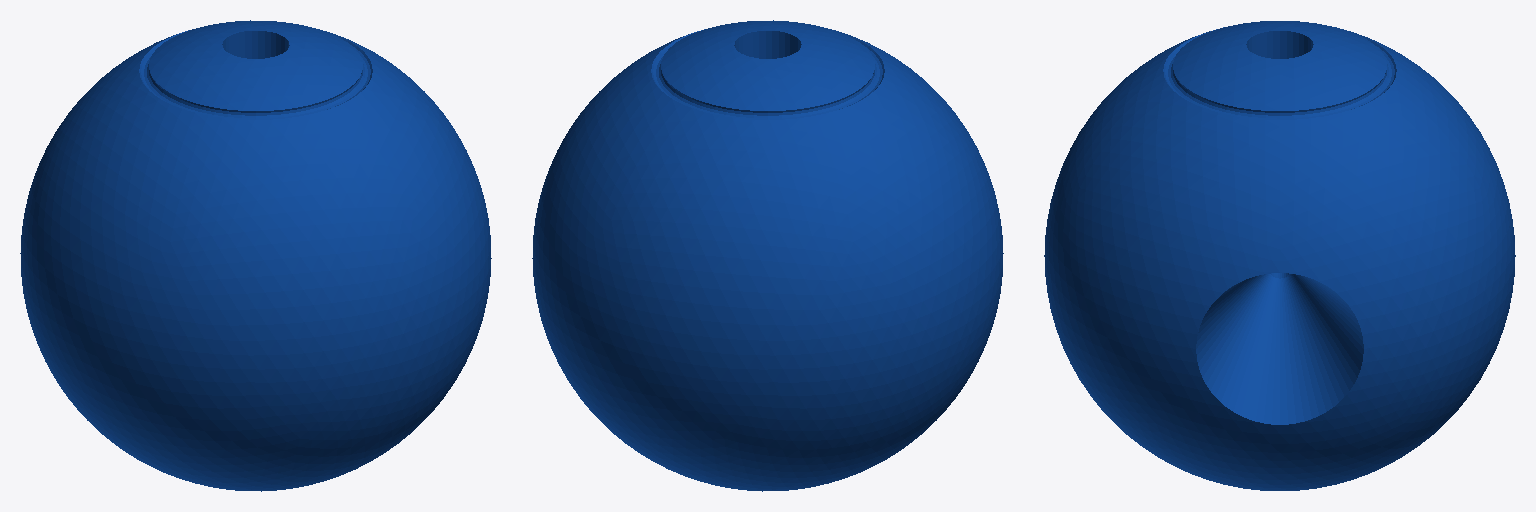
The robot description file, URDF, robot "spacecraft":
<?xml version="1.0" ?>
<robot name="spacecraft">
  <material name="industrial-blue">
    <color rgba="0.11372549019607843 0.34509803921568627 0.6549019607843137 1.0"/>
  </material>
  <material name="arches-blue">
    <color rgba="0.0 0.6235294117647059 0.8313725490196079 1.0"/>
  </material>
  <material name="heritage-orange">
    <color rgba="0.96078431 0.50980392 0.11764706 1.0"/>
  </material>
  <link name="bus" concave="yes">
    <visual>
      <geometry>
        <mesh filename="spacecraft.stl" scale="1.0 1.0 1.0"/>
      </geometry>
      <material name="industrial-blue"/>
    </visual>
    <collision concave="yes">
      <geometry>
        <mesh filename="spacecraft.stl" scale="1.0 1.0 1.0"/>
      </geometry>
    </collision>
    <inertial>
      <origin rpy="0.0 0.0 0.0" xyz="0.0 0.0 0.0"/>
      <mass value="5.0"/>
      <inertia ixx="8.82000000" ixy="0.00000000" ixz="0.00000000" iyy="8.82000000" iyz="0.00000000" izz="8.82000000"/>
    </inertial>
  </link>
  <link name="wheel_1" concave="yes">
    <visual>
      <geometry>
        <mesh filename="rw1.stl" scale="0.5 0.5 0.2"/>
      </geometry>
      <material name="heritage-orange"/>
    </visual>
    <collision concave="yes">
      <geometry>
        <mesh filename="rw1.stl" scale="0.5 0.5 0.2"/>
      </geometry>
    </collision>
    <inertial>
      <origin rpy="0.0 0.0 0.0" xyz="0.0 0.0 0.0"/>
      <mass value="1.0"/>
      <inertia ixx="0.06583333" ixy="0.00000000" ixz="0.00000000" iyy="0.06583333" iyz="0.00000000" izz="0.12500000"/>
    </inertial>
  </link>
  <link name="wheel_2" concave="yes">
    <visual>
      <geometry>
        <mesh filename="rw2.stl" scale="0.5 0.5 0.2"/>
      </geometry>
      <material name="heritage-orange"/>
    </visual>
    <collision concave="yes">
      <geometry>
        <mesh filename="rw2.stl" scale="0.5 0.5 0.2"/>
      </geometry>
    </collision>
    <inertial>
      <origin rpy="0.0 0.0 0.0" xyz="0.0 0.0 0.0"/>
      <mass value="1.0"/>
      <inertia ixx="0.06583333" ixy="0.00000000" ixz="0.00000000" iyy="0.06583333" iyz="0.00000000" izz="0.12500000"/>
    </inertial>
  </link>
  <link name="wheel_3" concave="yes">
    <visual>
      <geometry>
        <mesh filename="rw3.stl" scale="0.5 0.5 0.2"/>
      </geometry>
      <material name="heritage-orange"/>
    </visual>
    <collision concave="yes">
      <geometry>
        <mesh filename="rw3.stl" scale="0.5 0.5 0.2"/>
      </geometry>
    </collision>
    <inertial>
      <origin rpy="0.0 0.0 0.0" xyz="0.0 0.0 0.0"/>
      <mass value="1.0"/>
      <inertia ixx="0.06583333" ixy="0.00000000" ixz="0.00000000" iyy="0.06583333" iyz="0.00000000" izz="0.12500000"/>
    </inertial>
  </link>
  <link name="wheel_4" concave="yes">
    <visual>
      <geometry>
        <mesh filename="rw4.stl" scale="0.5 0.5 0.2"/>
      </geometry>
      <material name="heritage-orange"/>
    </visual>
    <collision concave="yes">
      <geometry>
        <mesh filename="rw4.stl" scale="0.5 0.5 0.2"/>
      </geometry>
    </collision>
    <inertial>
      <origin rpy="0.0 0.0 0.0" xyz="0.0 0.0 0.0"/>
      <mass value="1.0"/>
      <inertia ixx="0.06583333" ixy="0.00000000" ixz="0.00000000" iyy="0.06583333" iyz="0.00000000" izz="0.12500000"/>
    </inertial>
  </link>
  <link name="mass_1">
    <inertial>
      <origin rpy="0.0 0.0 0.0" xyz="0.0 0.0 0.0"/>
      <mass value="4.0"/>
      <inertia ixx="0" ixy="0" ixz="0" iyy="0" iyz="0" izz="0"/>
    </inertial>
  </link>
  <link name="mass_2">
    <inertial>
      <origin rpy="0.0 0.0 0.0" xyz="0.0 0.0 0.0"/>
      <mass value="1.0"/>
      <inertia ixx="0" ixy="0" ixz="0" iyy="0" iyz="0" izz="0"/>
    </inertial>
  </link>
  <link name="mass_3">
    <inertial>
      <origin rpy="0.0 0.0 0.0" xyz="0.0 0.0 0.0"/>
      <mass value="1.0"/>
      <inertia ixx="0" ixy="0" ixz="0" iyy="0" iyz="0" izz="0"/>
    </inertial>
  </link>
  <link name="mass_4">
    <inertial>
      <origin rpy="0.0 0.0 0.0" xyz="0.0 0.0 0.0"/>
      <mass value="1.0"/>
      <inertia ixx="0" ixy="0" ixz="0" iyy="0" iyz="0" izz="0"/>
    </inertial>
  </link>
  <link name="mass_5">
    <inertial>
      <origin rpy="0.0 0.0 0.0" xyz="0.0 0.0 0.0"/>
      <mass value="1.0"/>
      <inertia ixx="0" ixy="0" ixz="0" iyy="0" iyz="0" izz="0"/>
    </inertial>
  </link>
  <link name="mass_6">
    <inertial>
      <origin rpy="0.0 0.0 0.0" xyz="0.0 0.0 0.0"/>
      <mass value="1.0"/>
      <inertia ixx="0" ixy="0" ixz="0" iyy="0" iyz="0" izz="0"/>
    </inertial>
  </link>
  <link name="mass_7">
    <inertial>
      <origin rpy="0.0 0.0 0.0" xyz="0.0 0.0 0.0"/>
      <mass value="1.0"/>
      <inertia ixx="0" ixy="0" ixz="0" iyy="0" iyz="0" izz="0"/>
    </inertial>
  </link>
  <joint name="bus_to_wheel_1" type="continuous">
    <parent link="bus"/>
    <child link="wheel_1"/>
    <origin xyz="1.55563492 1.55563492 0.00000000" rpy="1.57079633 0.00000000 2.35619449"/>
    <axis xyz="0.00000000 0.00000000 1.00000000"/>
    <limit effort="1000.0" velocity="1000.0"/>
  </joint>
  <joint name="bus_to_wheel_2" type="continuous">
    <parent link="bus"/>
    <child link="wheel_2"/>
    <origin xyz="-1.55563492 1.55563492 0.00000000" rpy="1.57079633 0.00000000 3.92699082"/>
    <axis xyz="0.00000000 0.00000000 1.00000000"/>
    <limit effort="1000.0" velocity="1000.0"/>
  </joint>
  <joint name="bus_to_wheel_3" type="continuous">
    <parent link="bus"/>
    <child link="wheel_3"/>
    <origin xyz="-1.55563492 -1.55563492 0.00000000" rpy="1.57079633 0.00000000 5.49778714"/>
    <axis xyz="0.00000000 0.00000000 1.00000000"/>
    <limit effort="1000.0" velocity="1000.0"/>
  </joint>
  <joint name="bus_to_wheel_4" type="continuous">
    <parent link="bus"/>
    <child link="wheel_4"/>
    <origin xyz="1.55563492 -1.55563492 0.00000000" rpy="1.57079633 0.00000000 7.06858347"/>
    <axis xyz="0.00000000 0.00000000 1.00000000"/>
    <limit effort="1000.0" velocity="1000.0"/>
  </joint>
  <joint name="bus_to_mass_1" type="fixed">
    <parent link="bus"/>
    <child link="mass_1"/>
    <origin xyz="0.00000000 0.00000000 -0.00000000" rpy="0.00000000 0.00000000 0.00000000"/>
  </joint>
  <joint name="bus_to_mass_2" type="fixed">
    <parent link="bus"/>
    <child link="mass_2"/>
    <origin xyz="0.00000001 0.00000001 0.00000000" rpy="0.00000000 0.00000000 0.00000000"/>
  </joint>
  <joint name="bus_to_mass_3" type="fixed">
    <parent link="bus"/>
    <child link="mass_3"/>
    <origin xyz="-0.00000001 -0.00000001 -0.00000000" rpy="0.00000000 0.00000000 0.00000000"/>
  </joint>
  <joint name="bus_to_mass_4" type="fixed">
    <parent link="bus"/>
    <child link="mass_4"/>
    <origin xyz="-0.00000000 0.00000000 0.00000000" rpy="0.00000000 0.00000000 0.00000000"/>
  </joint>
  <joint name="bus_to_mass_5" type="fixed">
    <parent link="bus"/>
    <child link="mass_5"/>
    <origin xyz="0.00000000 -0.00000000 -0.00000000" rpy="0.00000000 0.00000000 0.00000000"/>
  </joint>
  <joint name="bus_to_mass_6" type="fixed">
    <parent link="bus"/>
    <child link="mass_6"/>
    <origin xyz="0.00000000 -0.00000000 0.00000000" rpy="0.00000000 0.00000000 0.00000000"/>
  </joint>
  <joint name="bus_to_mass_7" type="fixed">
    <parent link="bus"/>
    <child link="mass_7"/>
    <origin xyz="-0.00000000 0.00000000 -0.00000000" rpy="0.00000000 0.00000000 0.00000000"/>
  </joint>
</robot>

--- Render facts (derived) ---
The picture shows the robot from 3 angles, left to right: view 1: azimuth 30°, elevation 25°; view 2: azimuth 150°, elevation 25°; view 3: azimuth 270°, elevation 25°; orthographic projection.
Robot: spacecraft — 12 links, 11 joints (4 continuous, 7 fixed); root link bus; default pose: every joint at zero.
Visible links, largest first — view 1: bus; view 2: bus; view 3: bus.
Boxes of the visible links, <box> form: bus: <box>20,20,491,491</box>; bus: <box>532,20,1003,491</box>; bus: <box>1044,21,1515,490</box>.
Size in the robot's own frame: 4.06 by 4.2 by 4.18 metres.
1 mesh visuals loaded from 5 distinct referenced files (1 binary STL); not drawn: 4 (reference not matched to a file when rendering).